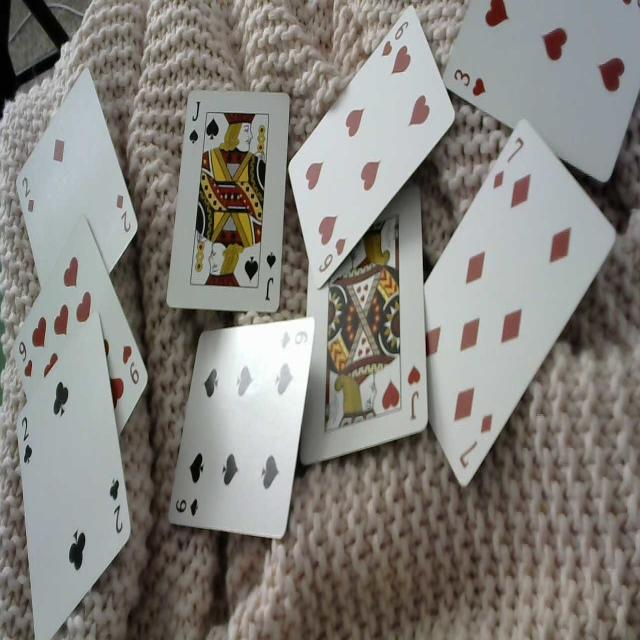2C: (105, 472, 127, 534), (20, 412, 34, 466)
2D: (114, 190, 134, 238), (20, 172, 38, 217)
3H: (452, 60, 488, 101)
6H: (318, 233, 350, 274), (382, 16, 411, 61)
6S: (278, 327, 309, 355), (173, 492, 200, 518)
7D: (490, 131, 526, 190), (458, 410, 493, 470)
9H: (120, 342, 142, 388), (18, 340, 34, 380)
JH: (406, 361, 422, 425)
JS: (187, 95, 203, 148), (264, 251, 278, 304)
